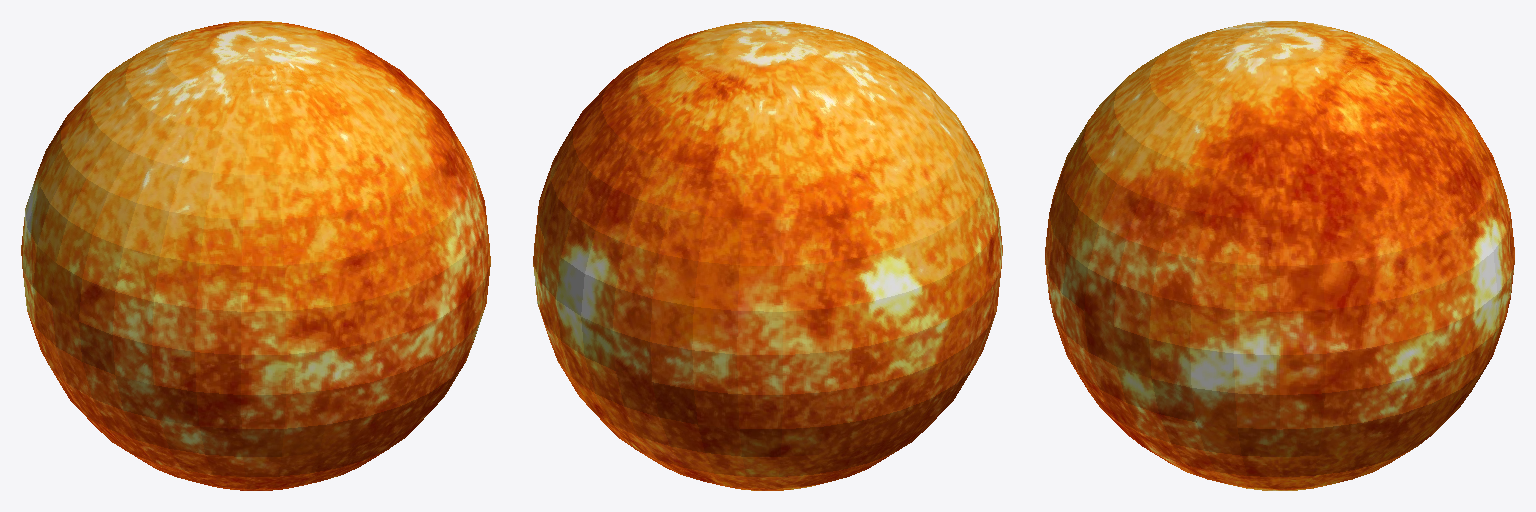
3 renders of one model, left to right at view 1: azimuth 30°, elevation 25°; view 2: azimuth 150°, elevation 25°; view 3: azimuth 270°, elevation 25°, orthographic.
Visible parts, largest first — view 1: unnamed_object1; view 2: unnamed_object1; view 3: unnamed_object1.
Boxes of the visible parts, box(x1,y1,x2,y2) form: unnamed_object1: box(21, 21, 490, 490); unnamed_object1: box(533, 21, 1002, 490); unnamed_object1: box(1045, 21, 1514, 490).
Size of the model in its own units: 2 by 2 by 2.
Materials: 1 (1 with a texture image).